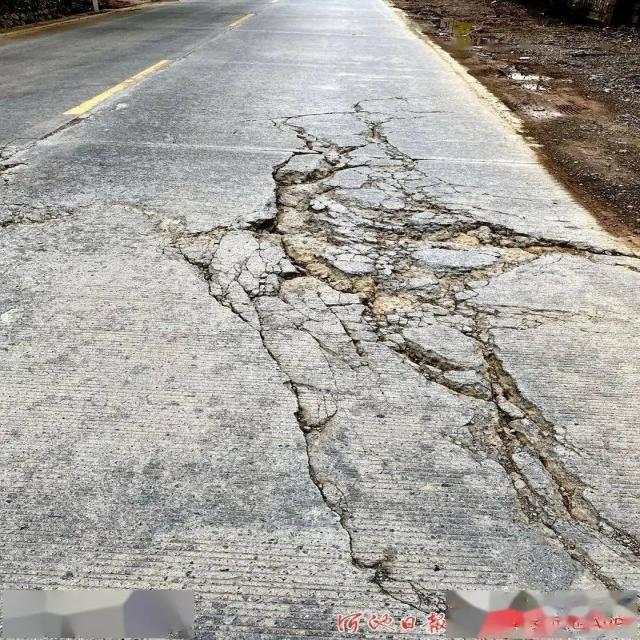pothole: (182, 99, 639, 622), (2, 114, 92, 241)
